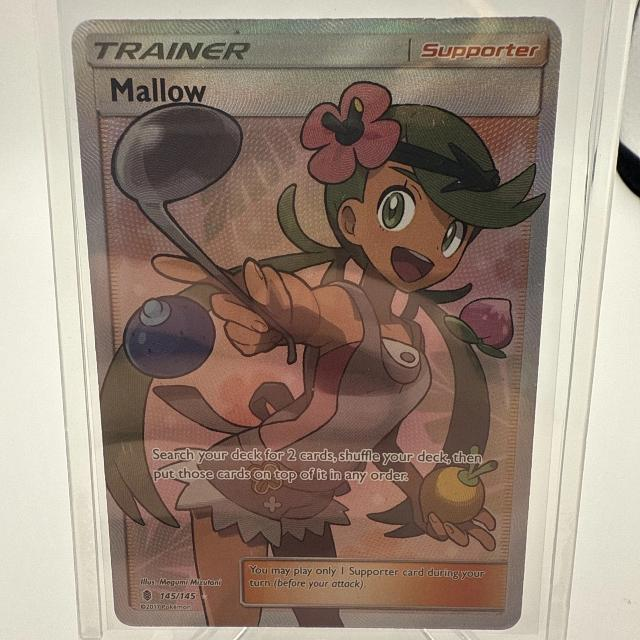Card: (65, 11, 569, 635)
Name: (104, 69, 210, 110)
